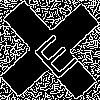E: (25, 25, 81, 81)
